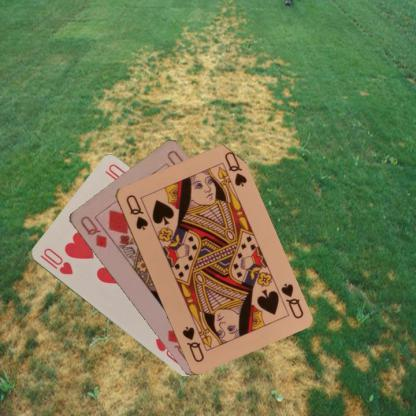10h: (40, 245, 74, 276)
Qd: (77, 212, 108, 250)
Qs: (122, 192, 150, 231), (277, 280, 304, 320)
